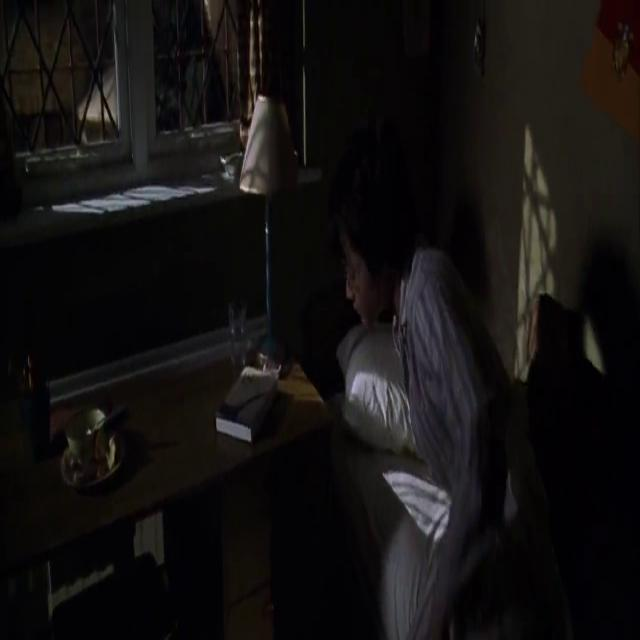Cup: (53, 394, 119, 506), (223, 294, 258, 390)
People: (329, 175, 544, 640)
Table: (0, 275, 337, 640)
